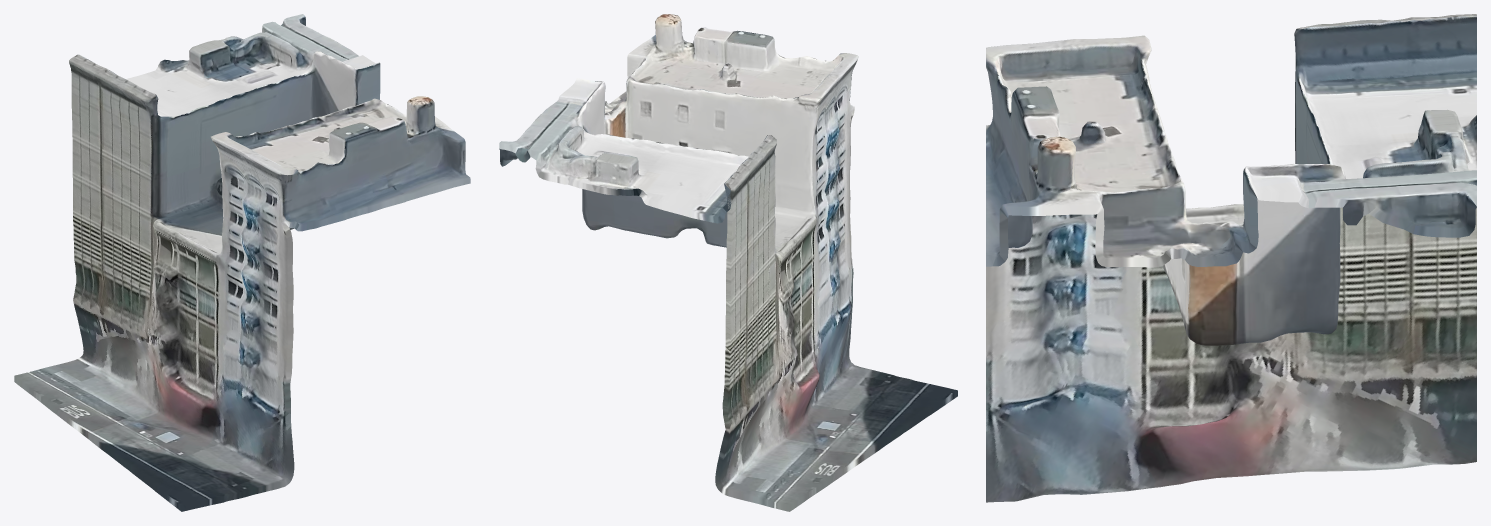
Rendered from z20-167757-405241-h0-yup-uvflip-v3-world.glb.
3 renders of one model, left to right at view 1: azimuth 30°, elevation 25°; view 2: azimuth 150°, elevation 25°; view 3: azimuth 270°, elevation 25°, orthographic. The views are drawn at different scales.
Bounding box in the file's own units: 30.2 × 33.08 × 30.32.
1 material, 1 textured.
